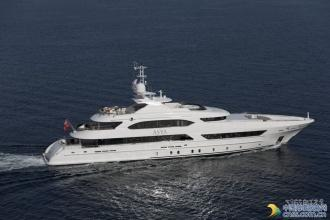yacht: (37, 64, 315, 168)
